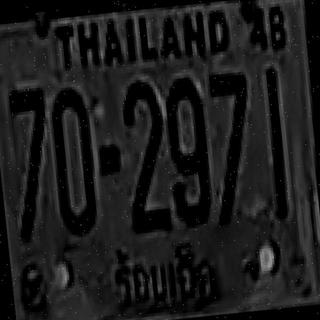N00: (47, 85, 99, 233)
N02: (120, 81, 169, 206), (120, 78, 168, 198), (120, 115, 170, 230)
N07: (206, 69, 253, 172), (206, 69, 252, 164), (6, 86, 51, 178), (6, 86, 50, 170)
N09: (162, 86, 212, 225), (163, 108, 213, 226)
P54: (104, 234, 218, 313)
